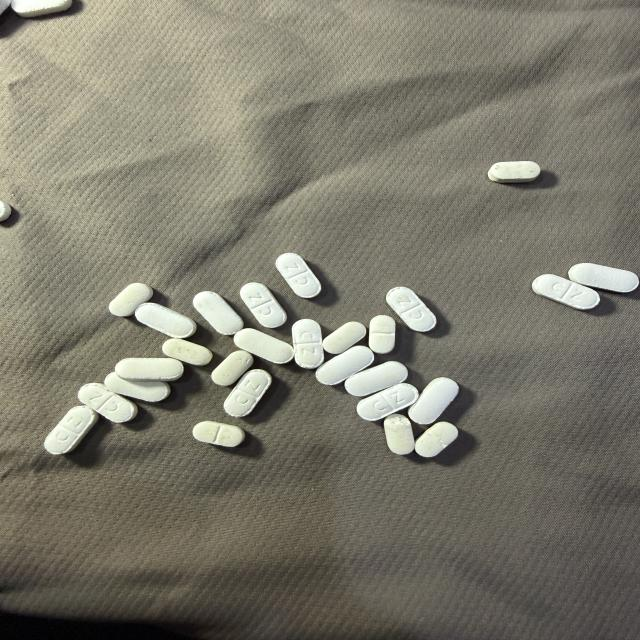pill: (45, 405, 97, 454), (408, 377, 458, 424), (532, 274, 599, 309), (357, 383, 418, 421), (78, 383, 137, 422), (224, 369, 271, 417), (316, 346, 373, 385), (345, 361, 408, 396), (387, 287, 436, 331), (135, 303, 196, 338), (194, 292, 243, 335), (240, 283, 286, 328), (276, 253, 321, 298), (234, 329, 293, 363), (569, 264, 638, 292), (105, 373, 170, 401), (292, 319, 324, 368), (115, 358, 183, 381), (415, 422, 457, 457), (109, 283, 153, 316), (212, 351, 253, 385), (323, 322, 366, 354), (193, 421, 245, 447), (162, 339, 212, 365), (384, 414, 414, 454), (488, 161, 540, 182), (12, 0, 71, 17), (369, 315, 395, 353), (0, 201, 12, 221), (0, 0, 10, 14)
